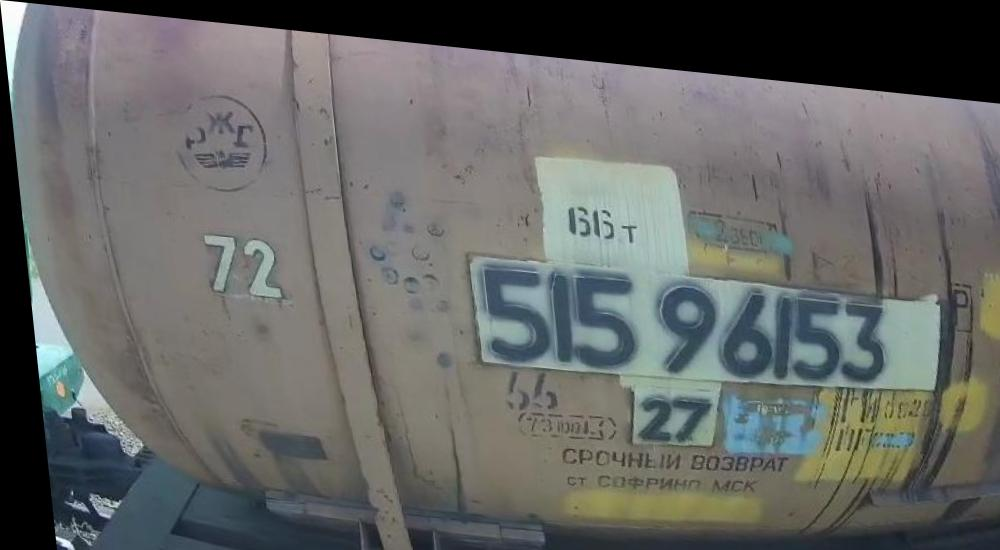Wagon-number: (464, 244, 897, 387)
